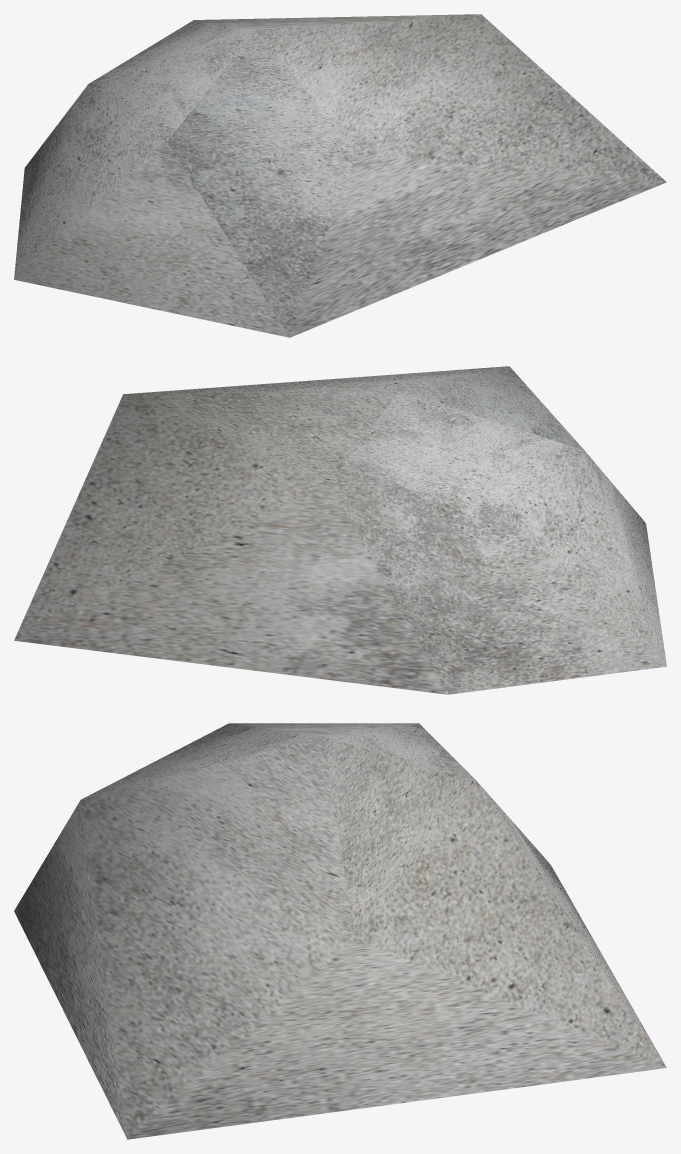
File: rock.fbx
3 views of the same model, one above another, from view 1: azimuth 30°, elevation 25°; view 2: azimuth 150°, elevation 25°; view 3: azimuth 270°, elevation 25° (orthographic). The views are drawn at different scales.
Visible parts, largest first — view 1: Icosphere; view 2: Icosphere; view 3: Icosphere.
Boxes of the visible parts, x1,y1,x2,y2 form: Icosphere: [14, 14, 666, 337]; Icosphere: [14, 366, 666, 694]; Icosphere: [14, 723, 666, 1139].
Size of the model in its own units: 440 by 140 by 361.
